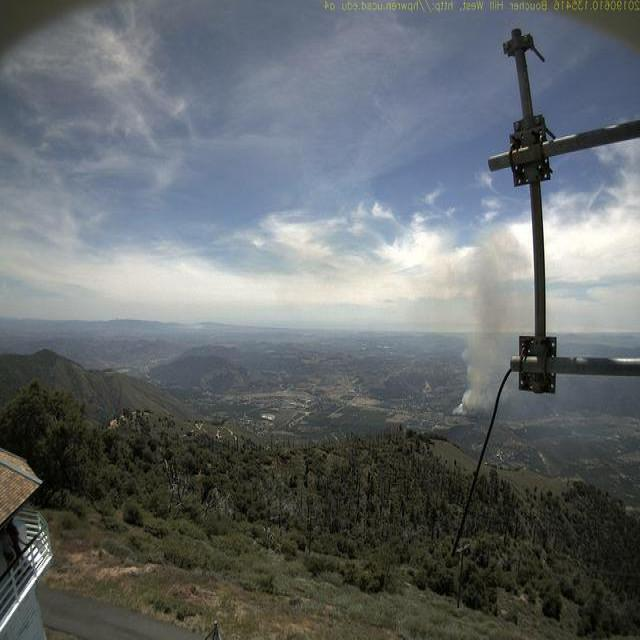smoke: (454, 228, 526, 415)
